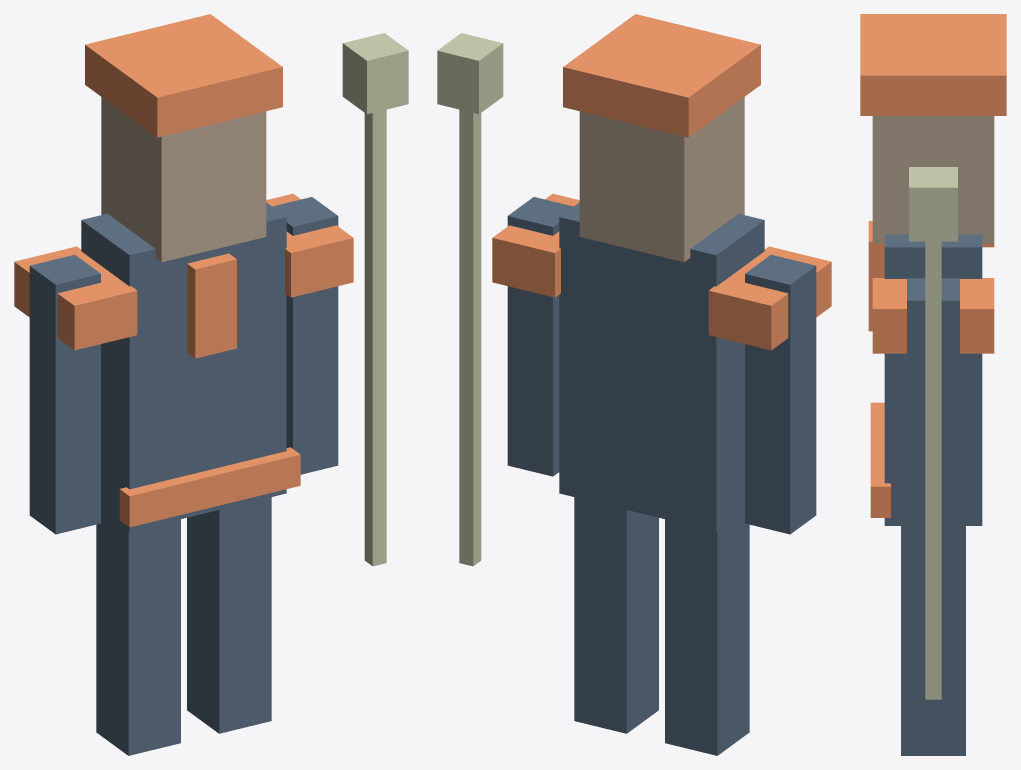
The model's file is 03_astra_emberkin_ranger_from_climber.glb.
3 views of the same model, side by side, from view 1: azimuth 30°, elevation 25°; view 2: azimuth 150°, elevation 25°; view 3: azimuth 270°, elevation 25° (orthographic).
Parts seen in each view (by area): view 1: Astra Emberkin, Ranger from Climber; view 2: Astra Emberkin, Ranger from Climber; view 3: Astra Emberkin, Ranger from Climber.
Part boxes in pixels (x1,y1,x2,y2): Astra Emberkin, Ranger from Climber: (14,14,408,755); Astra Emberkin, Ranger from Climber: (437,14,831,755); Astra Emberkin, Ranger from Climber: (860,14,1006,755).
Bounding box in the file's own units: 0.9407 × 1.7 × 0.3337.
